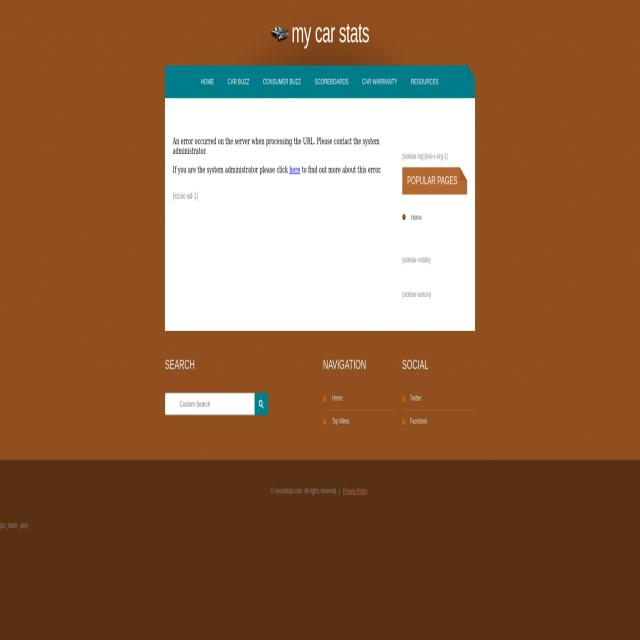button: (257, 65, 308, 98), (356, 65, 403, 98), (310, 65, 354, 98), (405, 65, 446, 98), (222, 64, 255, 98), (195, 64, 221, 98), (271, 16, 289, 49), (254, 393, 268, 415)
field: (164, 393, 255, 415)
